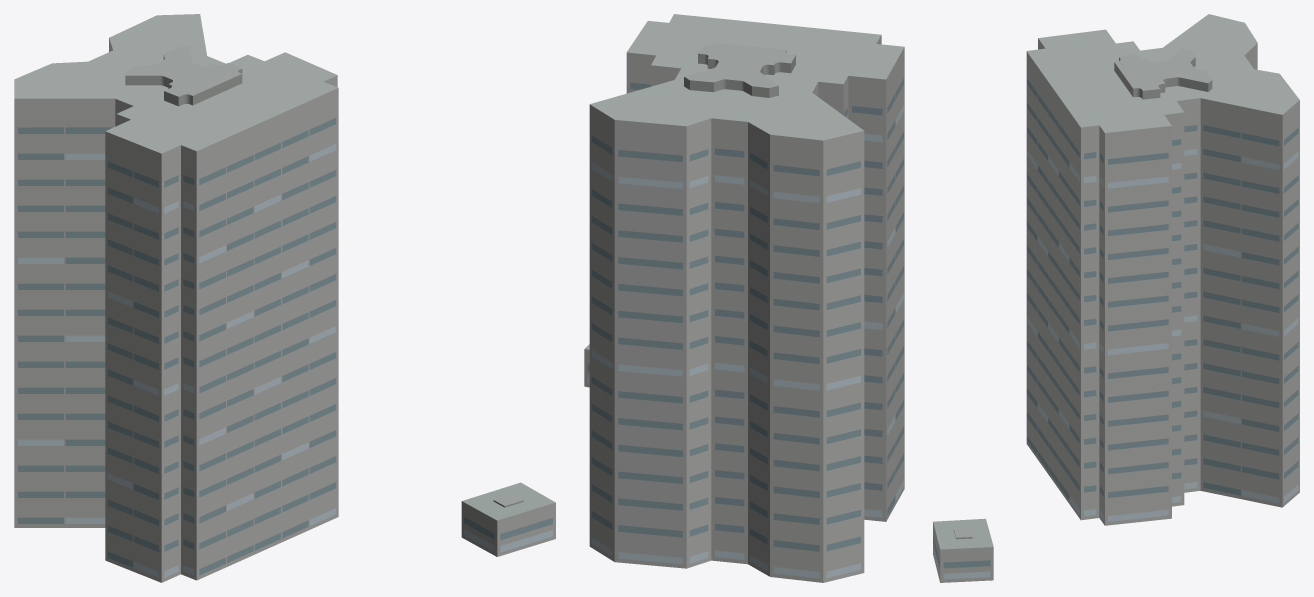
Rendered from apt-a10072501.glb.
The picture shows the model from 3 angles, left to right: view 1: azimuth 30°, elevation 25°; view 2: azimuth 150°, elevation 25°; view 3: azimuth 270°, elevation 25°; orthographic projection. The views are drawn at different scales.
Visible parts, largest first — view 1: apt-a10072501; view 2: apt-a10072501; view 3: apt-a10072501.
Boxes of the visible parts, x1,y1,x2,y2 form: apt-a10072501: [14, 14, 555, 582]; apt-a10072501: [584, 14, 904, 582]; apt-a10072501: [933, 14, 1299, 582].
Bounding box in the file's own units: 104 × 110 × 91.05.
